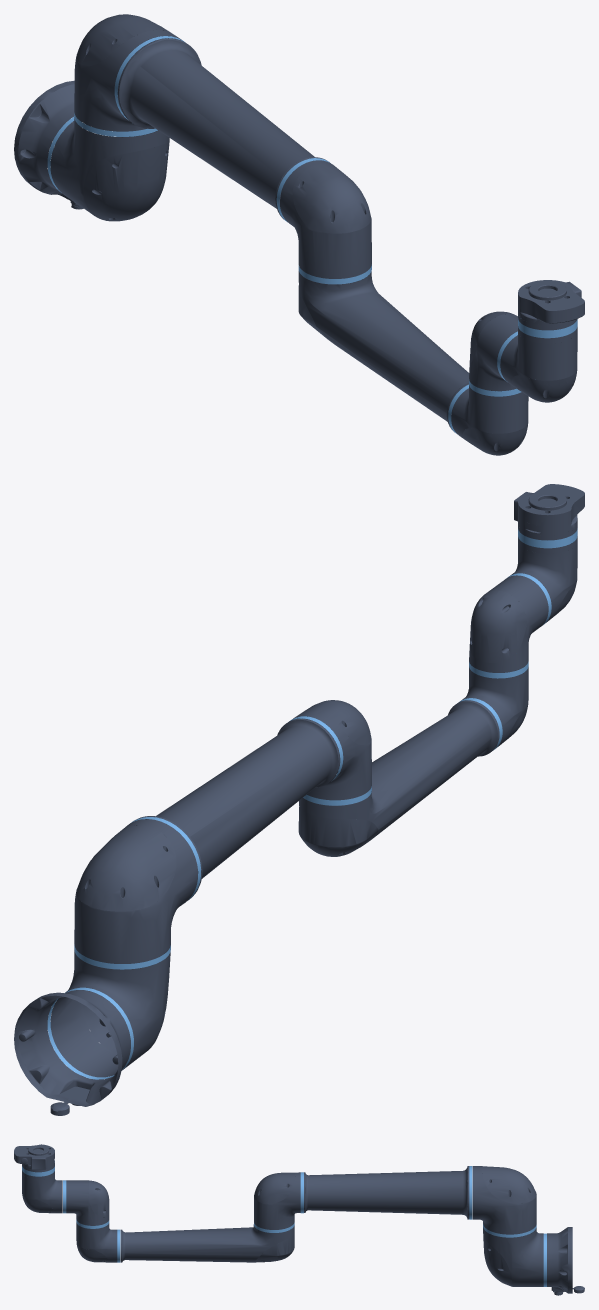
The model's file is 10kg-6axis-model.glb.
3 renders of one model, top to bottom at view 1: azimuth 30°, elevation 25°; view 2: azimuth 150°, elevation 25°; view 3: azimuth 270°, elevation 25°, orthographic. The views are drawn at different scales.
Parts seen in each view (by area): view 1: Link2, Link3, Link1, Link5, Base, Link6, Link4; view 2: Link2, Link3, Link1, Base, Link4, Link6, Link5; view 3: Link2, Link3, Link1, Base, Link4, Link5, Link6.
Boxes of the visible parts, x1,y1,x2,y2 form: Link2: (74,14,371,284); Link3: (298,269,528,455); Link1: (50,95,169,221); Link5: (500,326,577,402); Base: (14,80,130,209); Link6: (518,280,584,338); Link4: (469,311,517,391); Link2: (74,700,371,963); Link3: (298,653,528,856); Link1: (50,944,170,1077); Base: (14,987,133,1115); Link4: (469,573,551,672); Link6: (514,484,584,548); Link5: (510,535,577,623); Link2: (254,1166,536,1234); Link3: (76,1217,294,1262); Link1: (483,1224,543,1286); Base: (543,1227,584,1295); Link4: (63,1180,109,1225); Link5: (22,1170,62,1213); Link6: (14,1144,54,1176).
Bounding box in the file's own units: 0.1984 × 0.4729 × 1.7.
